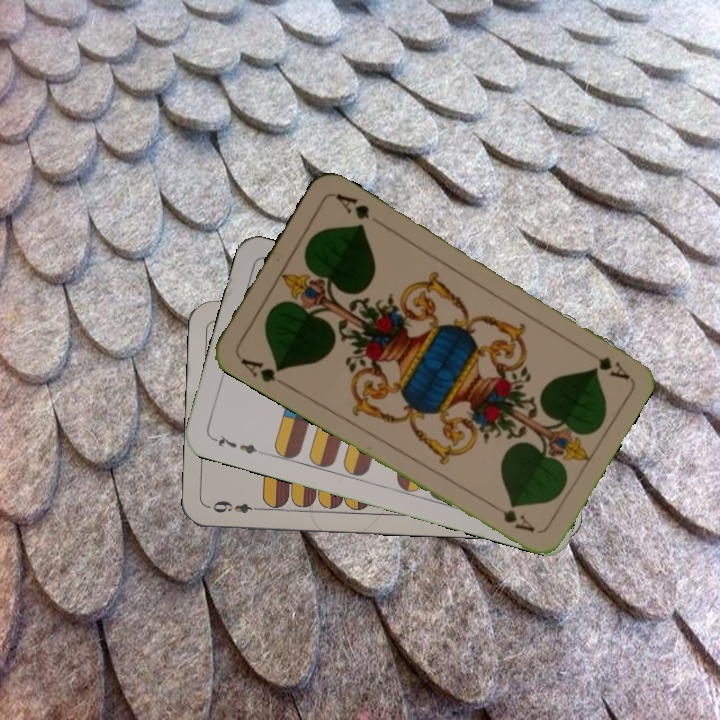E7: (208, 430, 266, 458)
E9: (206, 496, 265, 516)
GA: (578, 343, 631, 382), (236, 354, 286, 385)
